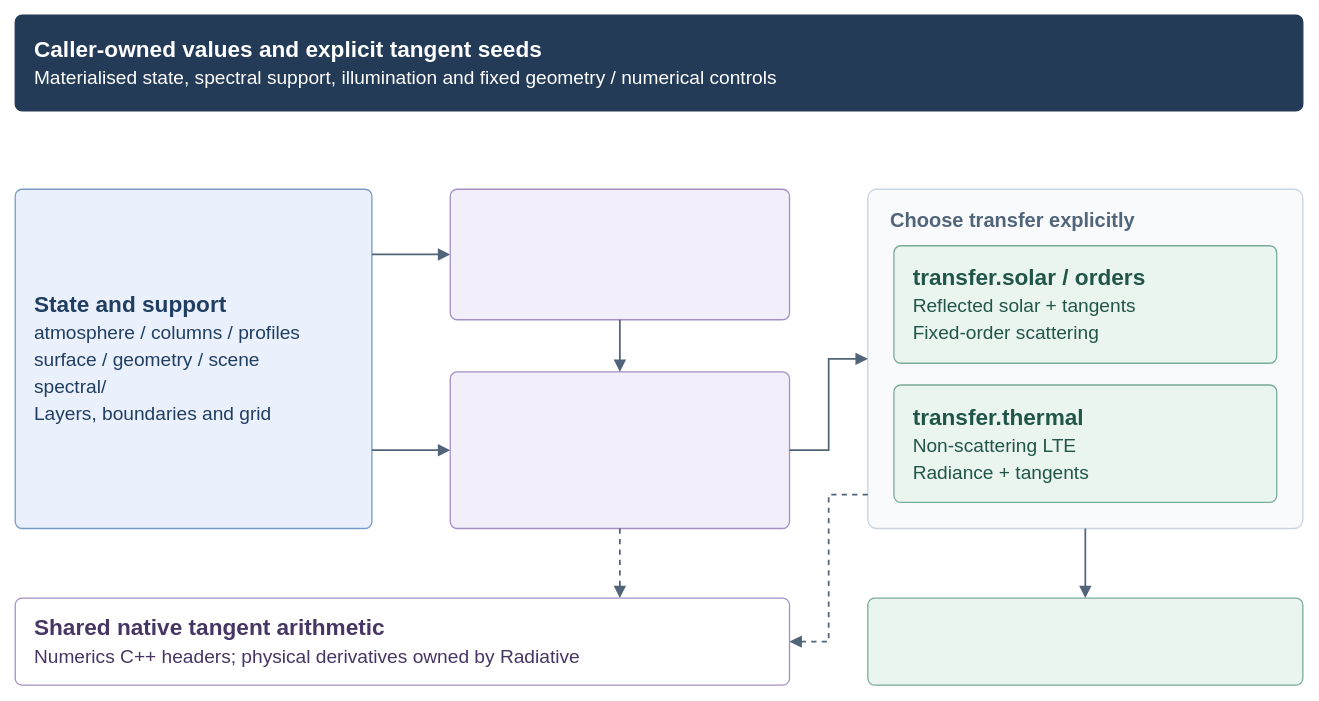
Image size: 1319x701. Some labels were removed from this diagram. The shapes that lost their labels are listed below. From the top down, each one's centre as x and y in pixels, then its label:
the point at 619,254: spectroscopy/ Lines, tables and continuum Species-resolved absorption
the point at 619,450: optics/ Absorption, Rayleigh, aerosols Fixed-cross-section column tangents
the point at 1085,641: Physical radiance Values and explicit derivatives
